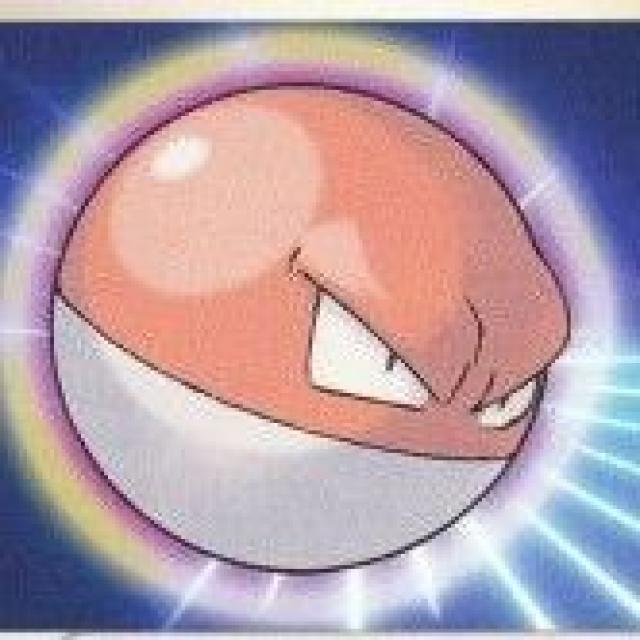Voltorb: (47, 79, 573, 576)
